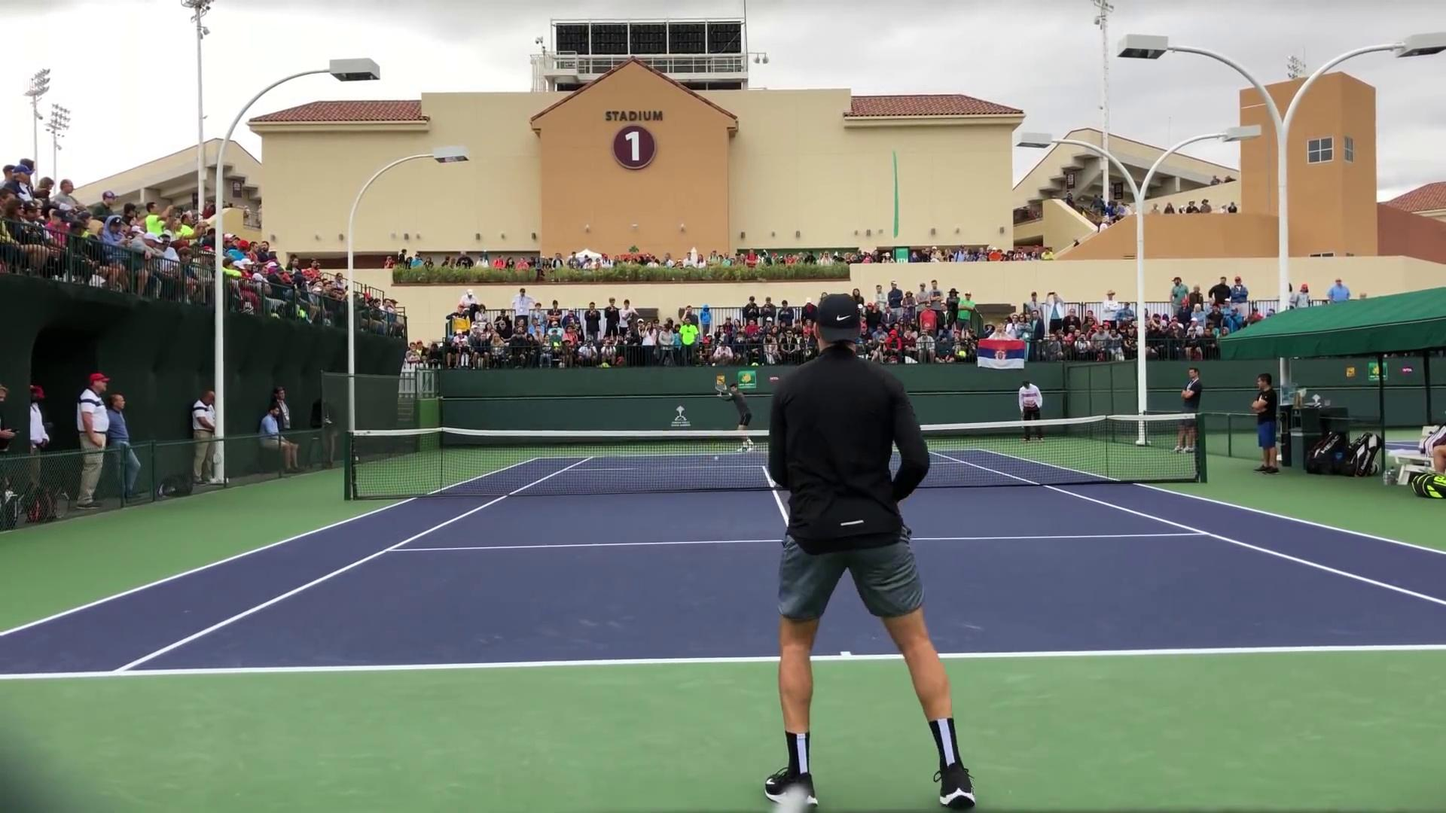ball: (709, 451, 723, 467)
